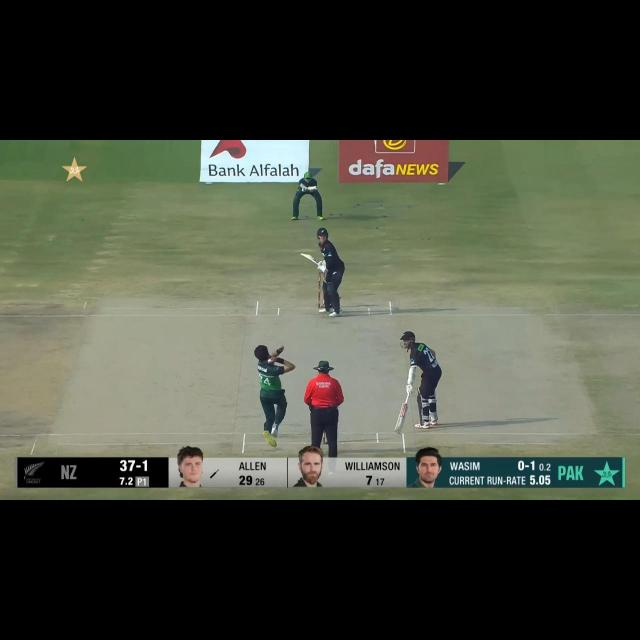bat: (395, 402, 409, 433), (300, 252, 318, 264)
toe: (394, 427, 401, 433), (301, 252, 306, 257)
